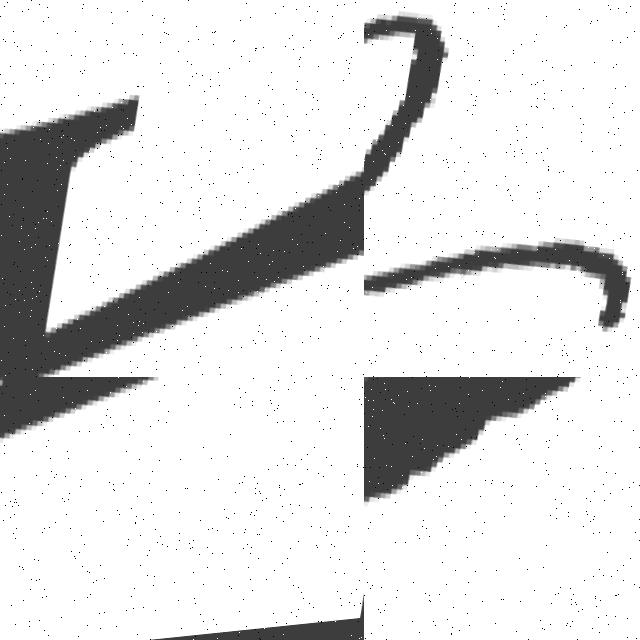7: (0, 0, 364, 377)
Q: (364, 0, 640, 377)
R: (364, 377, 640, 640)
Y: (0, 377, 364, 631)
